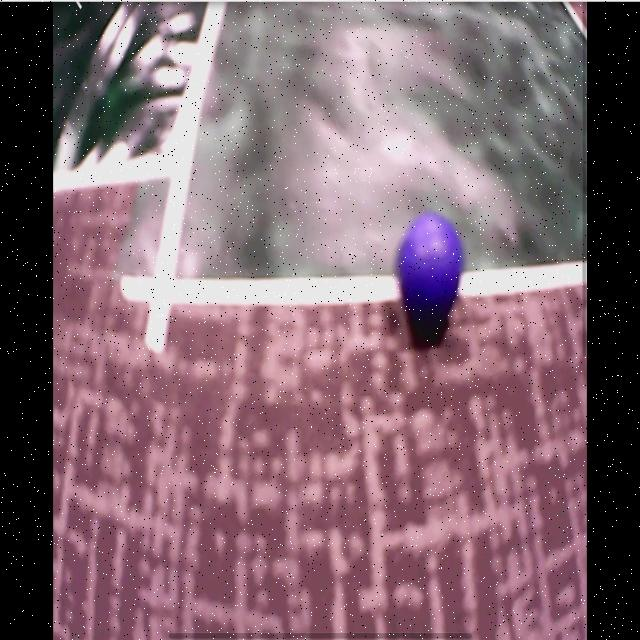ball: (400, 214, 463, 313)
